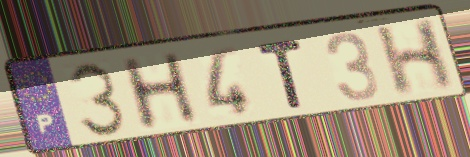3: (66, 60, 130, 141), (324, 30, 381, 102)
4: (202, 45, 256, 119)
H: (116, 49, 204, 135), (372, 15, 457, 100)
T: (253, 36, 308, 111)
